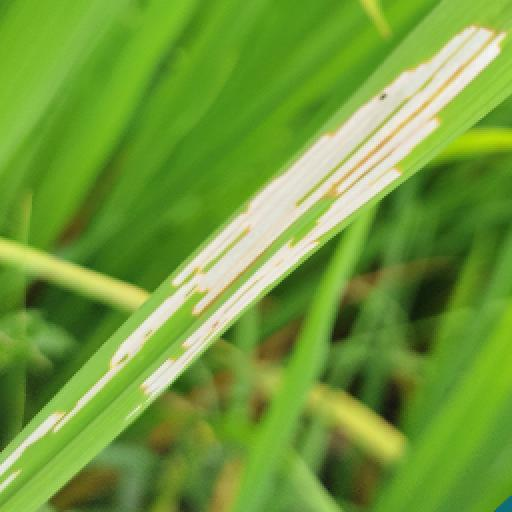Bacterial Leaf Blight: (0, 24, 506, 500)
